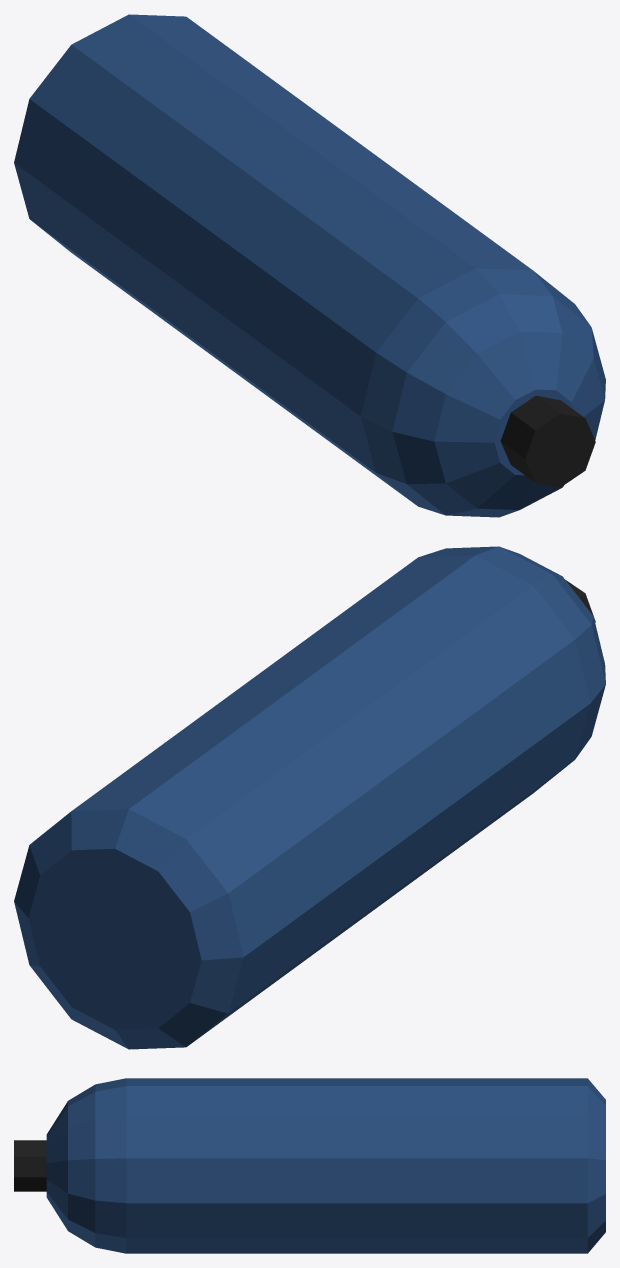
The picture shows the model from 3 angles, top to bottom: view 1: azimuth 30°, elevation 25°; view 2: azimuth 150°, elevation 25°; view 3: azimuth 270°, elevation 25°; orthographic projection. The views are drawn at different scales.
Parts seen in each view (by area): view 1: part_0, part_1; view 2: part_0; view 3: part_0, part_1.
Boxes of the visible parts, <box> form: part_0: <box>14,14,605,517</box>; part_1: <box>500,395,595,487</box>; part_0: <box>14,546,605,1049</box>; part_0: <box>46,1078,605,1253</box>; part_1: <box>14,1140,46,1191</box>.
Size of the model in its own units: 0.0745 by 0.0745 by 0.25.
